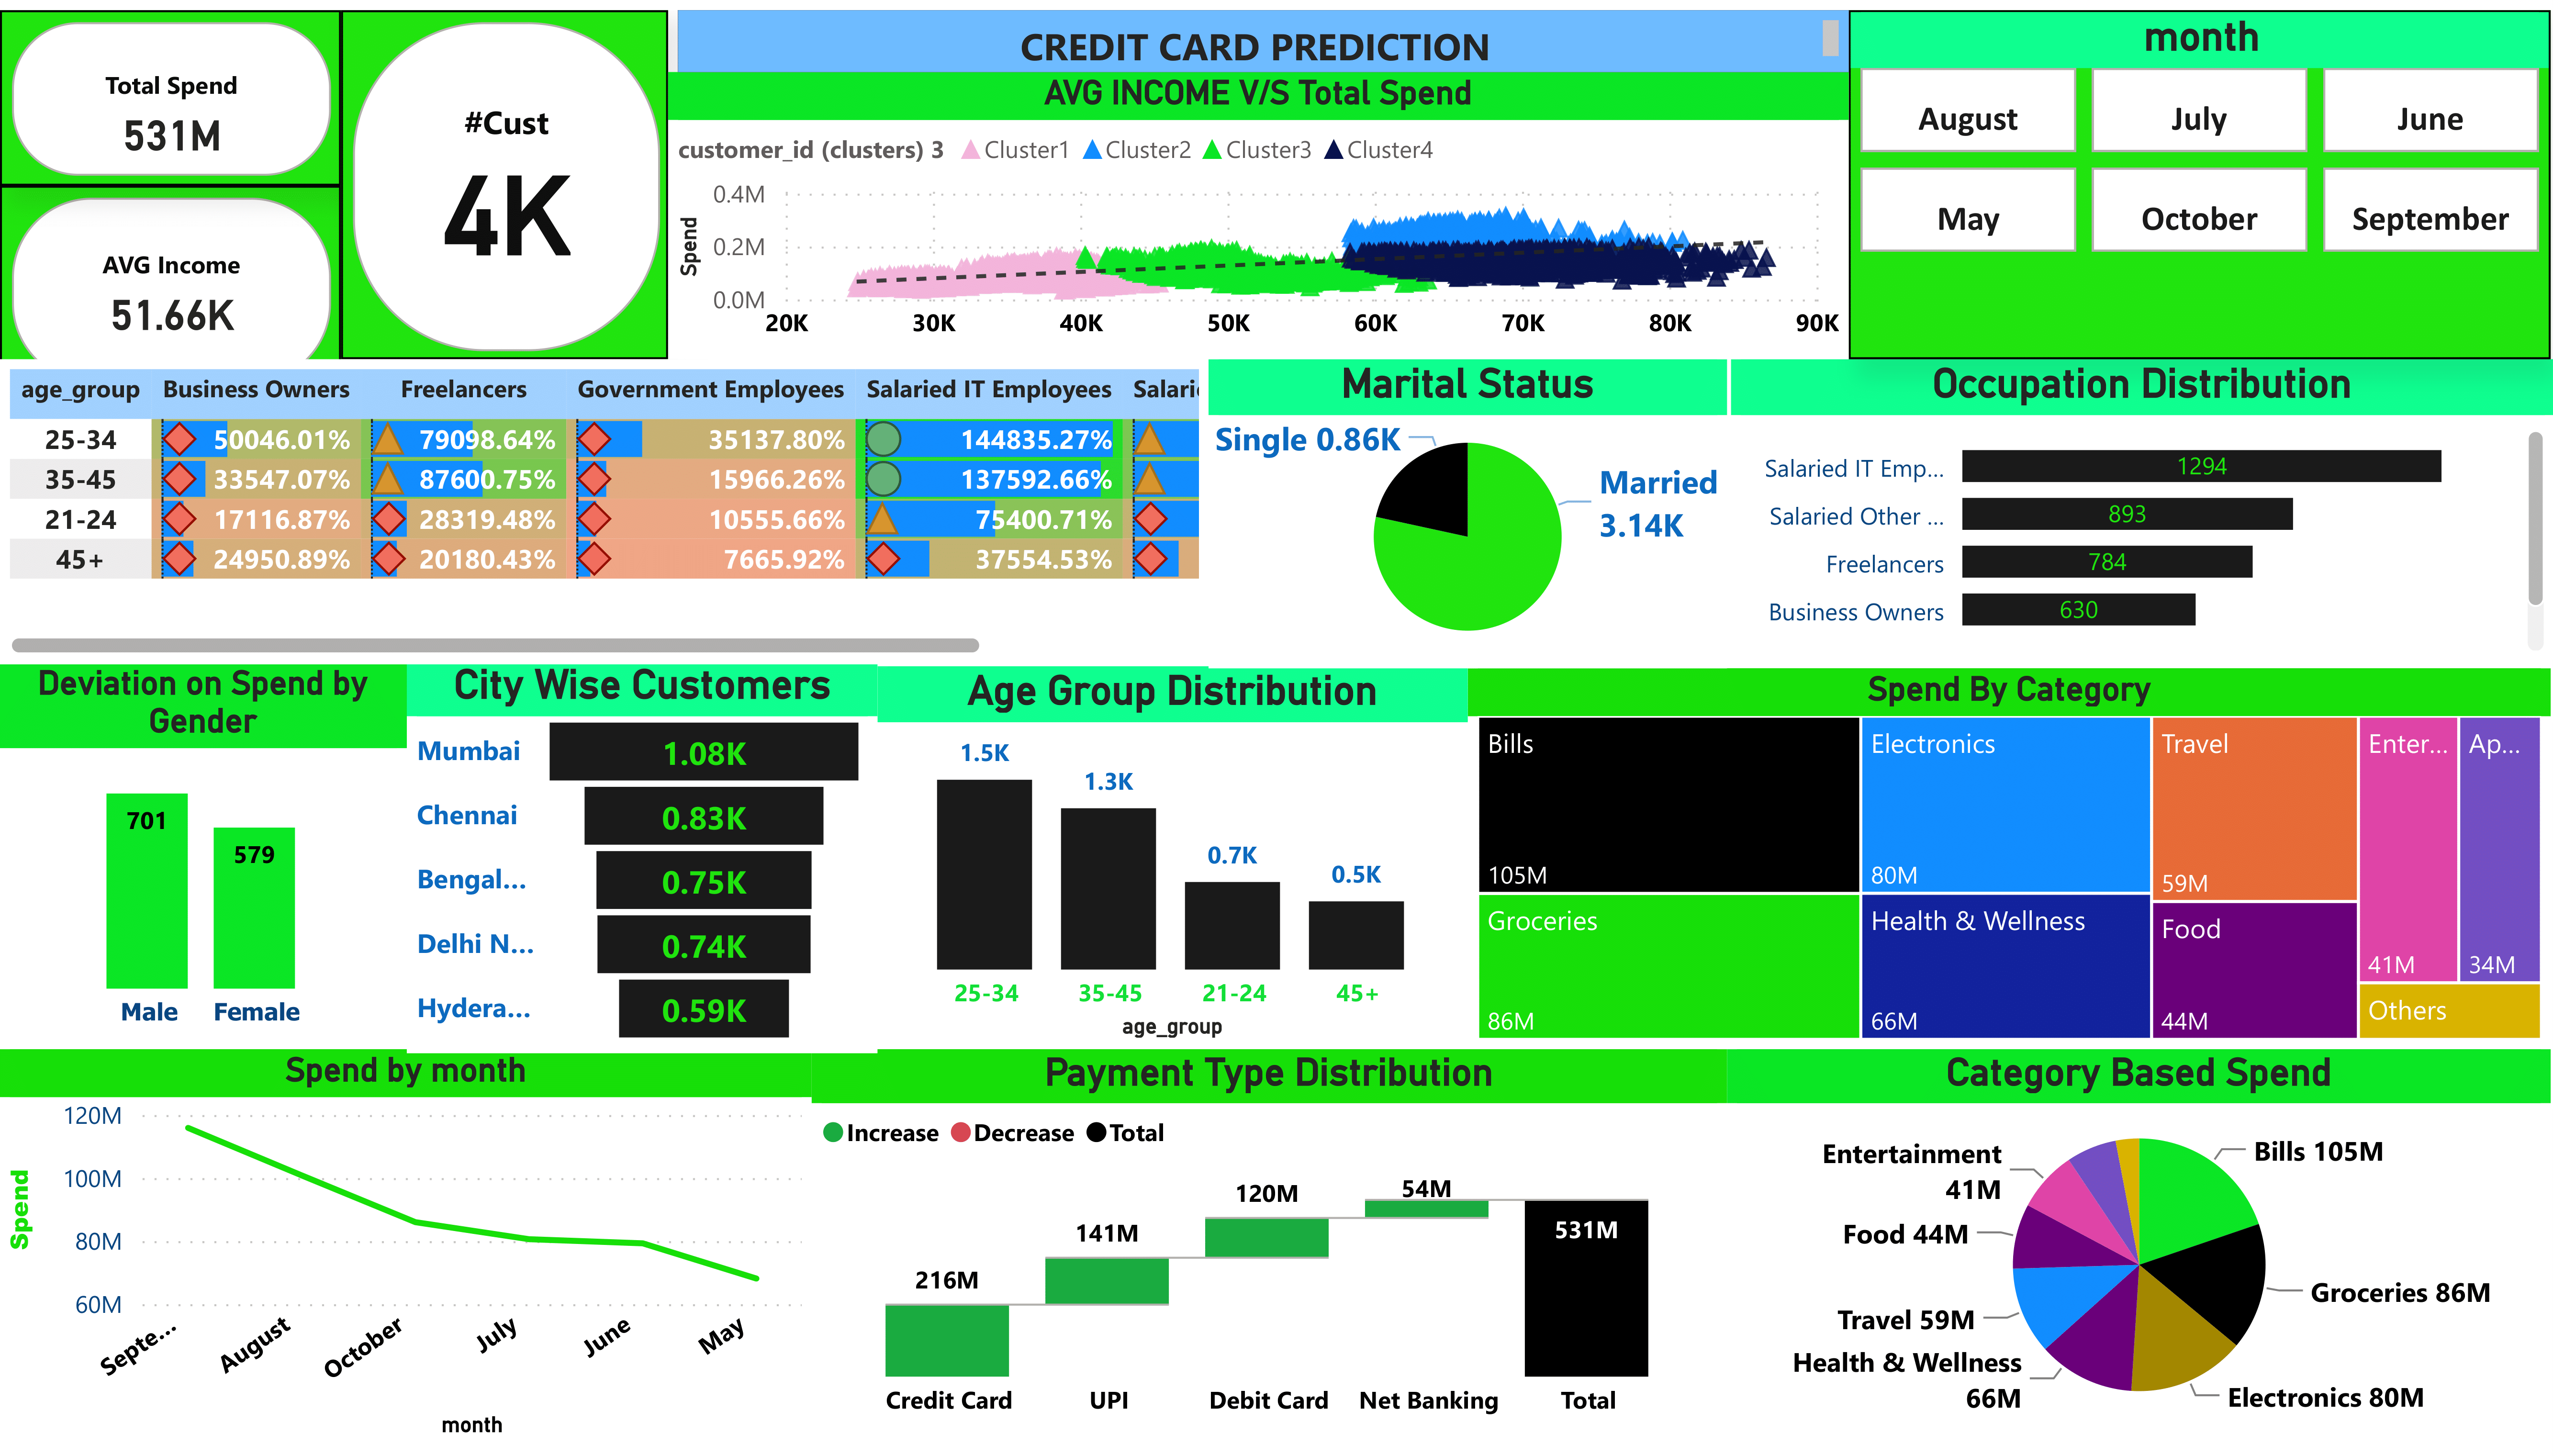

Layout of this report page (visuals, bound fields, positions):
{"tool":"powerbi","page":{"name":"Spend Contribution","canvas":[1280,720],"ordinal":0},"visuals":[{"type":"lineChart","fields":{"Category":["fact_spends.month"],"Y":["Sum(fact_spends.spend)"]},"box":[0,521.4,407.1,198.9],"z":0},{"type":"treemap","title":"Spend By Category","fields":{"Group":["fact_spends.category"],"Values":["fact_spends.M_Total_Spend"]},"box":[735.9,330.4,543.3,191],"z":1000},{"type":"waterfallChart","title":"Payment Type Distribution","fields":{"Category":["fact_spends.payment_type"],"Y":["fact_spends.M_Total_Spend"]},"box":[407.1,521.4,458.8,194.2],"z":2000},{"type":"pieChart","title":"Category Based Spend","fields":{"Category":["fact_spends.category","dim_customers.gender","fact_spends.payment_type","dim_customers.age_group"],"Y":["fact_spends.M_Total_Spend"]},"box":[865.9,521.4,413.4,194.2],"z":3000},{"type":"clusteredColumnChart","title":"Age Group Distribution","fields":{"Category":["dim_customers.age_group"],"Y":["CountNonNull(dim_customers.age_group)"]},"box":[440,328.8,295.9,191],"z":4000},{"type":"funnel","title":"City Wise Customers","fields":{"Category":["dim_customers.city"],"Y":["CountNonNull(dim_customers.customer_id)"]},"box":[203.6,325.7,236.4,197.3],"z":5000},{"type":"barChart","title":"Occupation Distribution","fields":{"Category":["dim_customers.occupation"],"Y":["CountNonNull(dim_customers.occupation)"]},"box":[867.5,175,412.5,151.2],"z":6000},{"type":"pieChart","title":"Marital Status","fields":{"Category":["dim_customers.marital status"],"Y":["CountNonNull(dim_customers.marital status)"]},"box":[606,175.4,259.9,155],"z":7000},{"type":"cardVisual","title":"AVG INCOME","fields":{"Data":["Avg(dim_customers.avg_income)"]},"box":[0,87.7,170.7,103.3],"z":8000},{"type":"cardVisual","fields":{"Data":["fact_spends.M_Total_Spend"]},"box":[0,0,170.7,87.7],"z":9000},{"type":"cardVisual","fields":{"Data":["Count(dim_customers.customer_id)"]},"box":[170.7,0,164.4,175.4],"z":10000},{"type":"advancedSlicerVisual","fields":{"Values":["fact_spends.month"]},"box":[927,0,352.3,175.4],"z":11000},{"type":"columnChart","title":"Deviation on Spend by Gender","fields":{"Category":["dim_customers.gender"],"Y":["Sum(fact_spends.spend)"]},"box":[0,327.3,203.6,192.6],"z":12000},{"type":"pivotTable","fields":{"Values":["dim_customers.Spend% Against Income"],"Columns":["dim_customers.occupation"],"Rows":["dim_customers.age_group"]},"box":[0,175.4,606,153.4],"z":13000},{"type":"scatterChart","title":"AVG INCOME V/S Total Spend","fields":{"Category":["dim_customers.customer_id"],"X":["Avg(dim_customers.avg_income)"],"Y":["Sum(fact_spends.spend)"],"Series":["dim_customers.customer_id (clusters) 3"]},"box":[335.1,31.3,591.9,144.1],"z":14000},{"type":"actionButton","box":[339.8,0,587.2,31.3],"z":15000},{"type":"textbox","box":[339.8,0,587.2,31.3],"z":16000}]}

Visuals, with their boxes in screenshot pixels (x1, y1, x2, y2), scaled from the page's 1280x720 canvas onto the 2553x1456 screenshot:
lineChart - fact_spends.month x Sum(fact_spends.spend): detection(0, 1054, 812, 1456)
"Spend By Category" treemap: detection(1468, 668, 2552, 1054)
"Payment Type Distribution" waterfallChart: detection(812, 1054, 1727, 1447)
"Category Based Spend" pieChart: detection(1727, 1054, 2552, 1447)
"Age Group Distribution" clusteredColumnChart: detection(878, 665, 1468, 1051)
"City Wise Customers" funnel: detection(406, 659, 878, 1058)
"Occupation Distribution" barChart: detection(1730, 354, 2553, 660)
"Marital Status" pieChart: detection(1209, 355, 1727, 668)
"AVG INCOME" cardVisual: detection(0, 178, 340, 386)
cardVisual - fact_spends.M_Total_Spend: detection(0, 0, 340, 178)
cardVisual - Count(dim_customers.customer_id): detection(340, 0, 668, 355)
advancedSlicerVisual - fact_spends.month: detection(1849, 0, 2552, 355)
"Deviation on Spend by Gender" columnChart: detection(0, 662, 406, 1052)
pivotTable - dim_customers.Spend% Against Income x dim_customers.occupation: detection(0, 355, 1209, 665)
"AVG INCOME V/S Total Spend" scatterChart: detection(668, 63, 1849, 355)
actionButton: detection(678, 0, 1849, 63)
textbox: detection(678, 0, 1849, 63)
